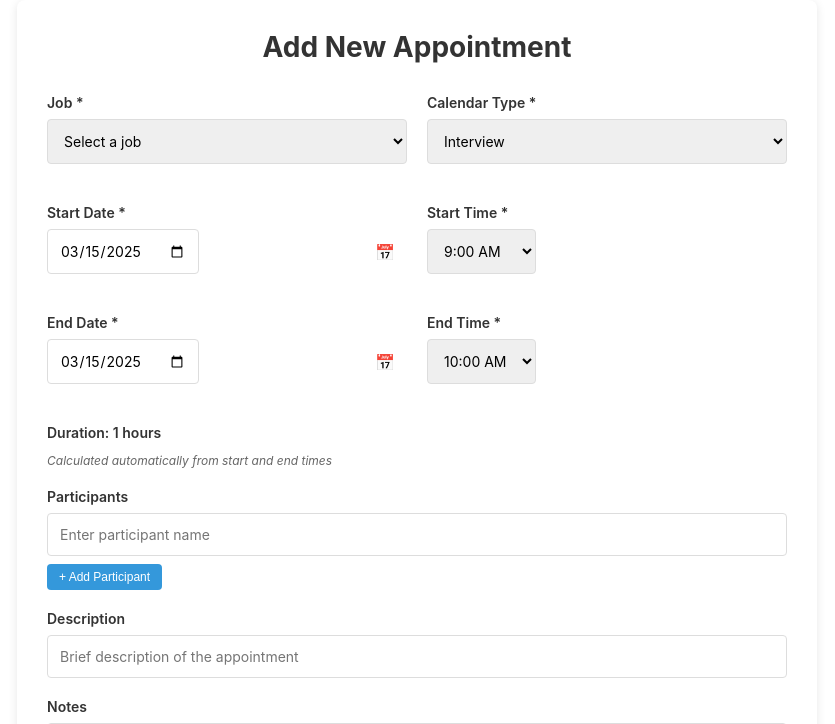
CalendarForm Component › Form Interactions › auto-populates end date when start date changes
The image size is (835, 724).
Type "2025-05-20" into the date field labelled "Start Date *".
click(123, 252); type("2025-05-20")  # box [47,229,199,274]
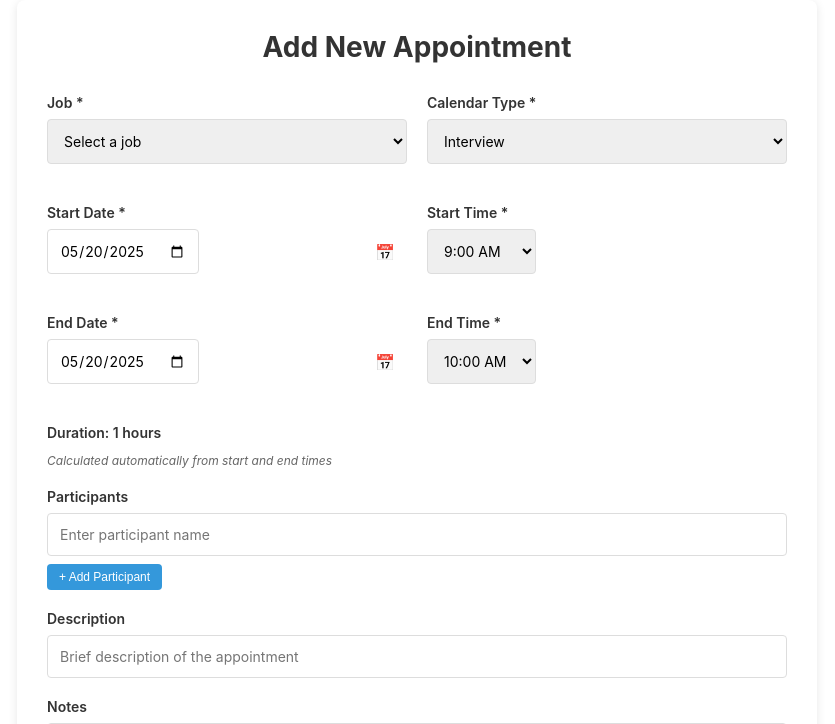
Result: the date field labelled "End Date *" holds "2025-05-20" at [47,339,199,384]
